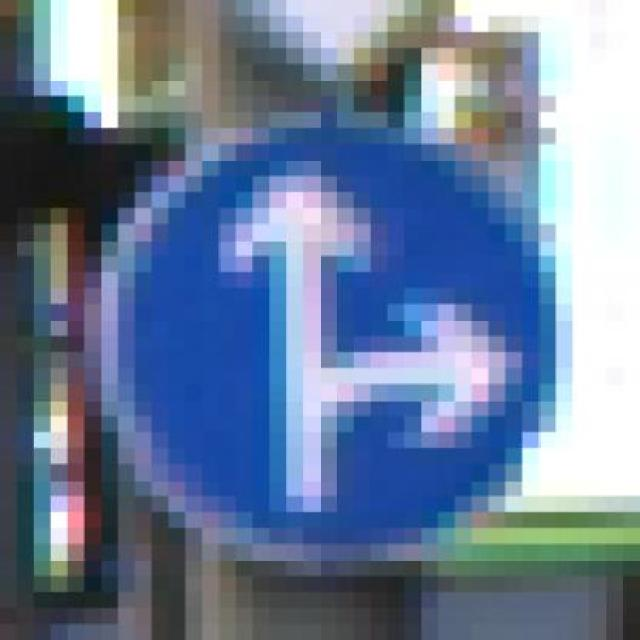Go Straight or Turn Right: (84, 80, 556, 592)
